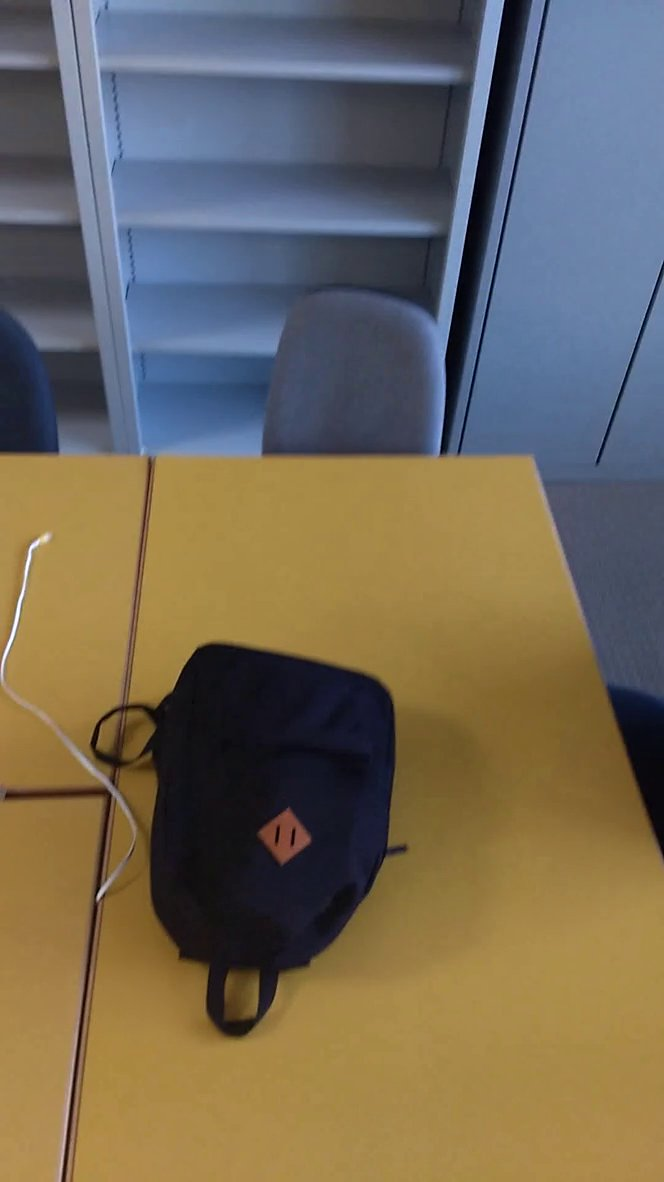bag: (86, 630, 436, 1052)
chair: (234, 257, 477, 480)
